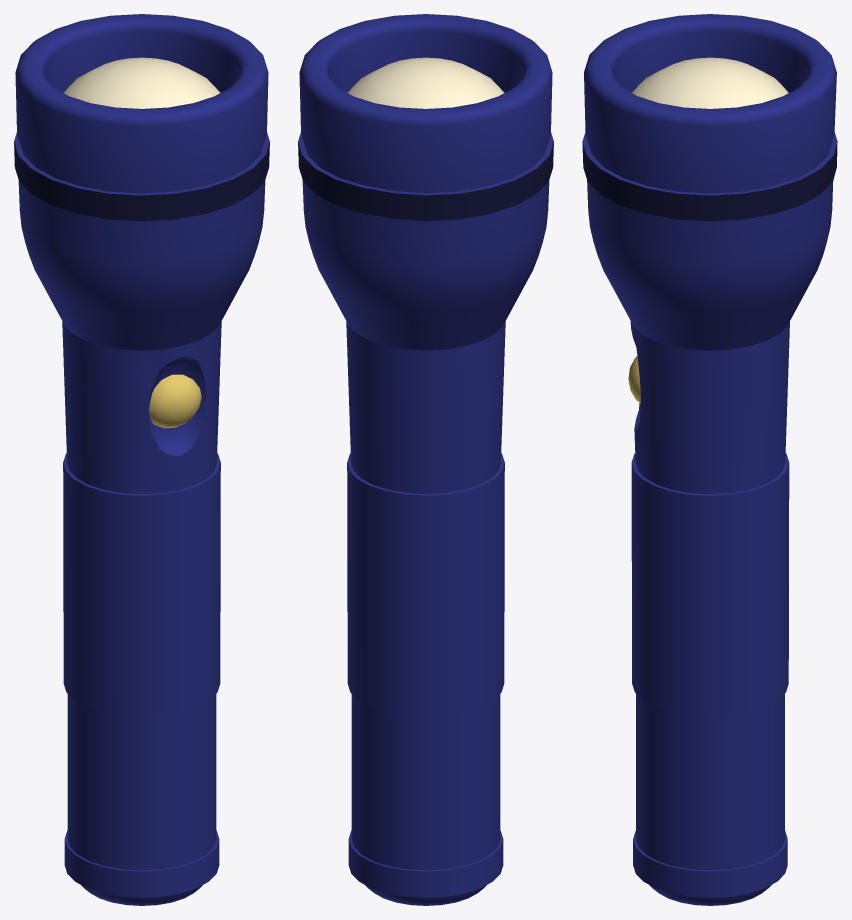
The model's file is flashlightfbx.fbx.
3 renders of one model, left to right at view 1: azimuth 30°, elevation 25°; view 2: azimuth 150°, elevation 25°; view 3: azimuth 270°, elevation 25°, orthographic.
Visible parts, largest first — view 1: flashlight; view 2: flashlight; view 3: flashlight.
Boxes of the visible parts, x1,y1,x2,y2 form: flashlight: [14, 14, 269, 905]; flashlight: [298, 14, 553, 905]; flashlight: [582, 14, 837, 905].
Size of the model in its own units: 6.32 by 22.29 by 6.29.
